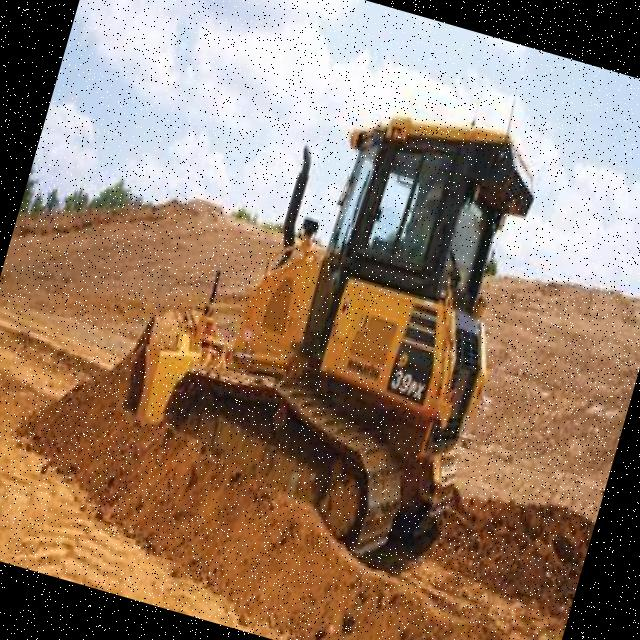Bulldozer: (106, 37, 600, 572)
